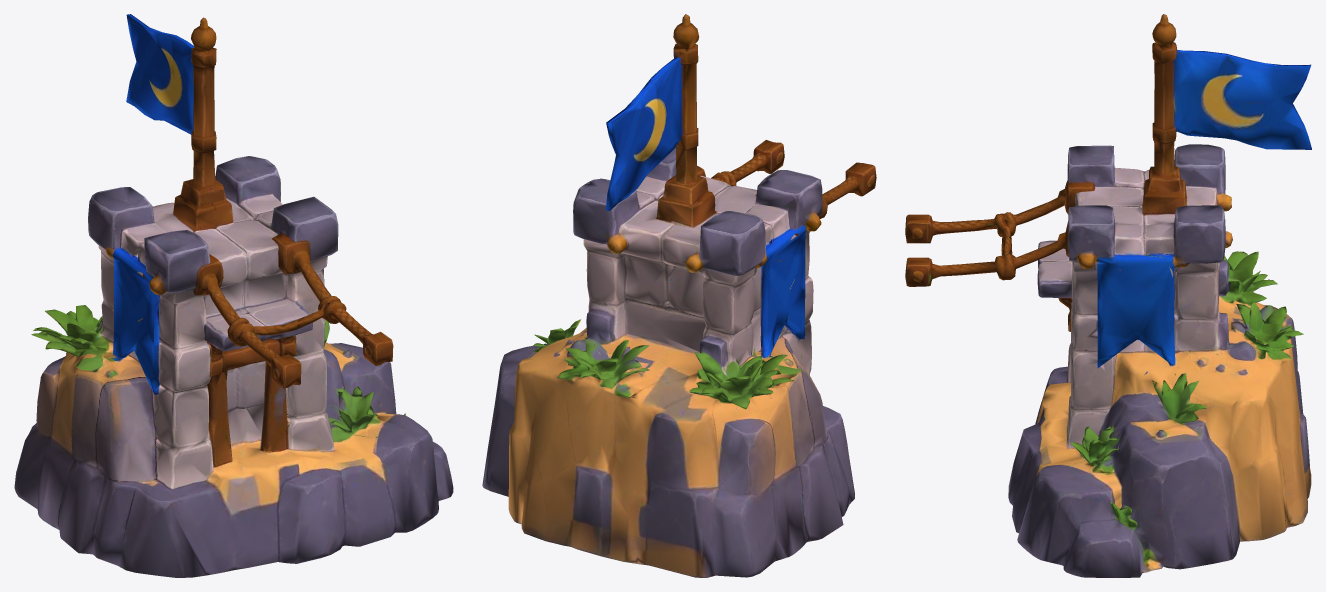
Rendered from numeria-mooncrest-outpost.glb.
3 views of the same model, side by side, from view 1: azimuth 30°, elevation 25°; view 2: azimuth 150°, elevation 25°; view 3: azimuth 270°, elevation 25° (orthographic). The views are drawn at different scales.
Bounding box in the file's own units: 1.42 × 1.9 × 1.49.
1 material, 1 textured.
